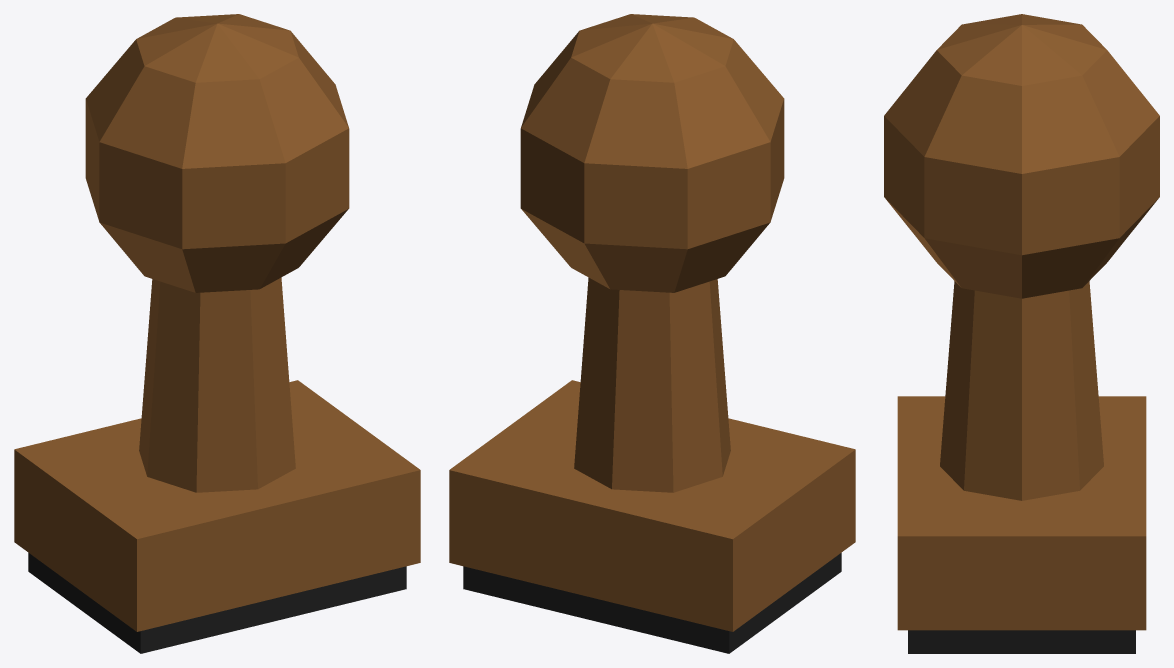
The model's file is postmark_stamp.glb.
3 views of the same model, side by side, from view 1: azimuth 30°, elevation 25°; view 2: azimuth 150°, elevation 25°; view 3: azimuth 270°, elevation 25° (orthographic).
Parts seen in each view (by area): view 1: handle_handle_wood, base_handle_wood, base_rubber_black; view 2: handle_handle_wood, base_handle_wood, base_rubber_black; view 3: handle_handle_wood, base_handle_wood, base_rubber_black.
Boxes of the visible parts, x1,y1,x2,y2 form: handle_handle_wood: [85, 14, 349, 492]; base_handle_wood: [14, 380, 420, 631]; base_rubber_black: [28, 553, 406, 653]; handle_handle_wood: [520, 14, 784, 492]; base_handle_wood: [449, 380, 855, 631]; base_rubber_black: [463, 553, 841, 653]; handle_handle_wood: [884, 14, 1159, 500]; base_handle_wood: [897, 396, 1146, 630]; base_rubber_black: [908, 630, 1135, 653].
Size of the model in its own units: 0.08 by 0.152 by 0.0666.
